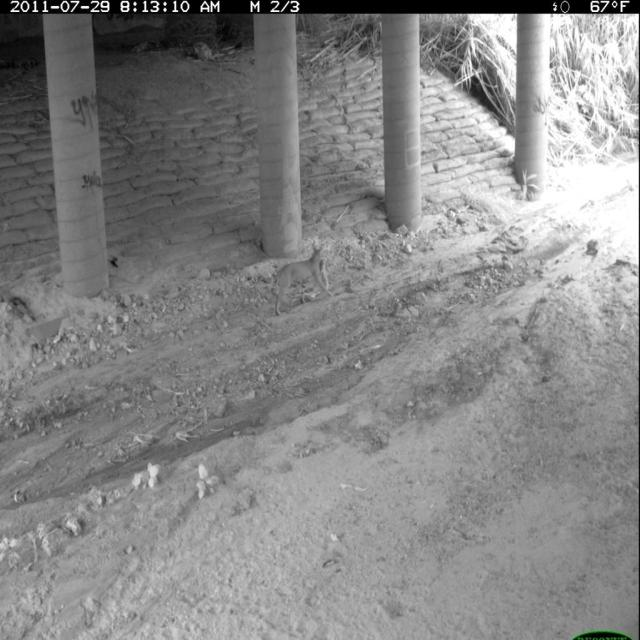bobcat: (269, 240, 337, 320)
rabbit: (317, 255, 334, 294)
